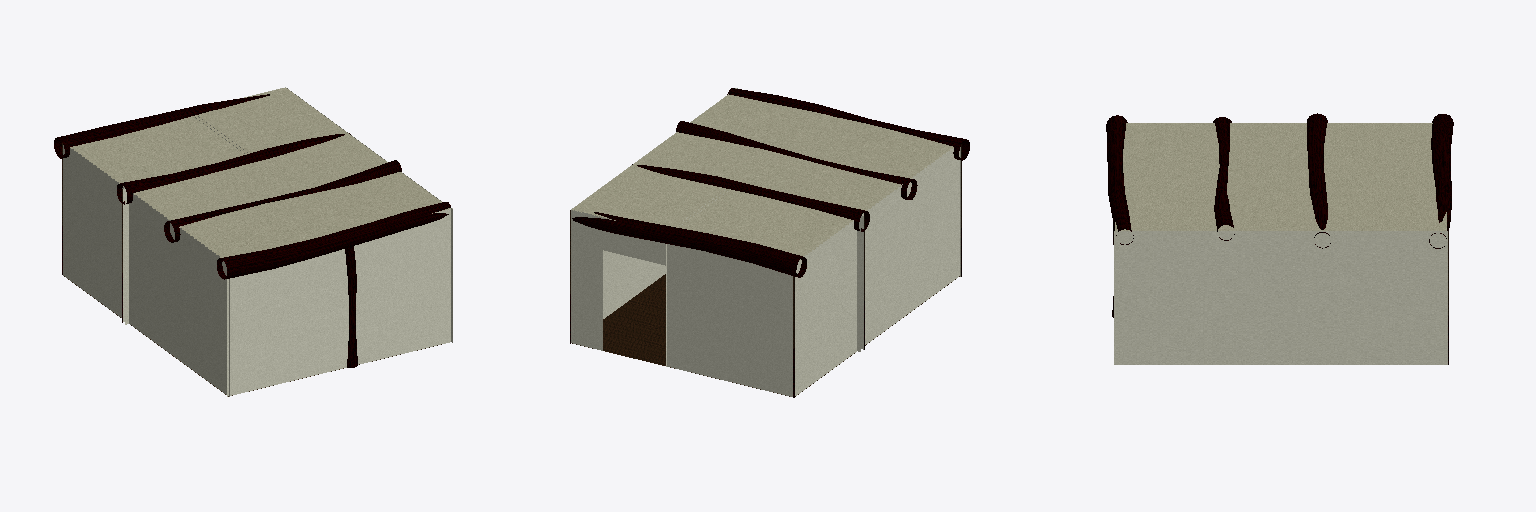
3 renders of one model, left to right at view 1: azimuth 30°, elevation 25°; view 2: azimuth 150°, elevation 25°; view 3: azimuth 270°, elevation 25°, orthographic.
Parts seen in each view (by area): view 1: Plane.009; view 2: Plane.009; view 3: Plane.009.
Boxes of the visible parts, box(x1,y1,x2,y2) form: Plane.009: box(54, 87, 452, 396); Plane.009: box(570, 88, 969, 397); Plane.009: box(1106, 113, 1453, 364).
Bounding box in the file's own units: 7.22 × 5.21 × 9.42.
2 materials, 1 textured.